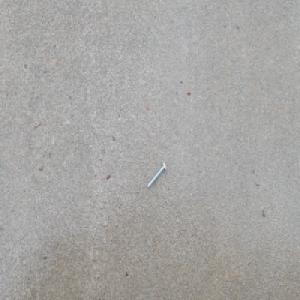Nail: (145, 161, 166, 190)
